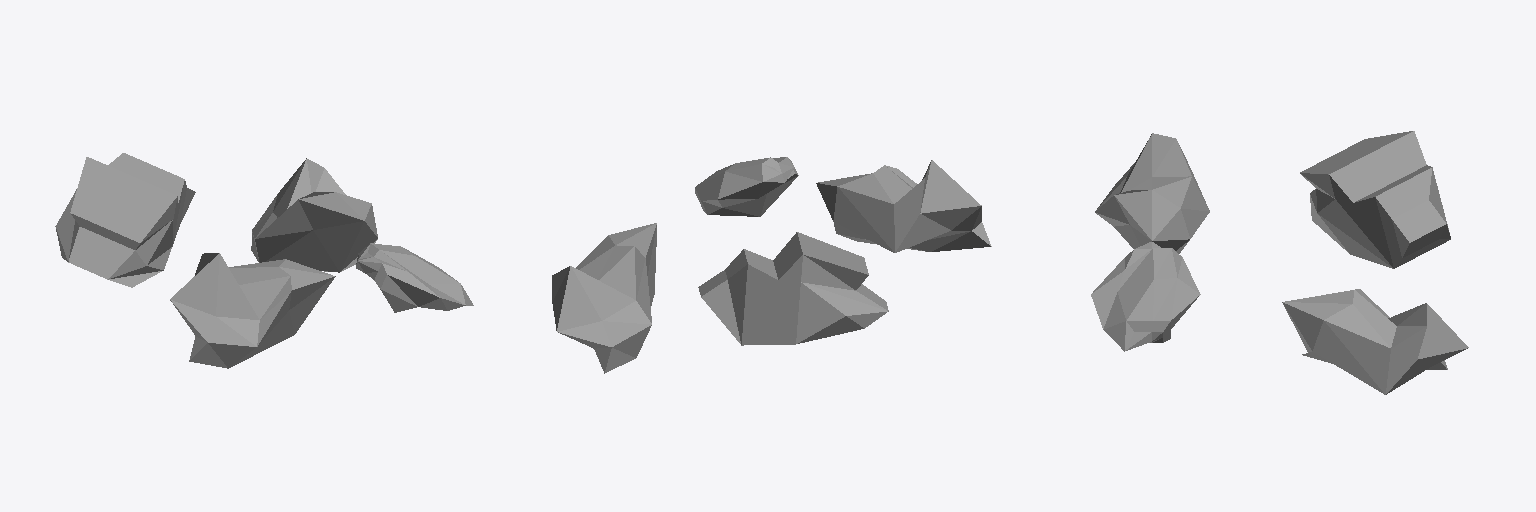
File: mineralshigh.obj
3 renders of one model, left to right at view 1: azimuth 30°, elevation 25°; view 2: azimuth 150°, elevation 25°; view 3: azimuth 270°, elevation 25°, orthographic.
Visible parts, largest first — view 1: Shard01_Cube.004, Shard02_Cube.005, Shard02_Cube.004, Shard03_Cube.001; view 2: Shard01_Cube.004, Shard02_Cube.005, Shard02_Cube.004, Shard03_Cube.001; view 3: Shard01_Cube.004, Shard02_Cube.004, Shard02_Cube.005, Shard03_Cube.001.
Boxes of the visible parts, x1,y1,x2,y2 form: Shard01_Cube.004: [55, 153, 195, 287]; Shard02_Cube.005: [170, 253, 335, 368]; Shard02_Cube.004: [251, 158, 377, 272]; Shard03_Cube.001: [356, 243, 473, 312]; Shard01_Cube.004: [698, 232, 888, 345]; Shard02_Cube.005: [816, 160, 991, 252]; Shard02_Cube.004: [552, 223, 656, 373]; Shard03_Cube.001: [695, 157, 798, 216]; Shard01_Cube.004: [1300, 131, 1450, 268]; Shard02_Cube.004: [1282, 289, 1468, 394]; Shard02_Cube.005: [1095, 133, 1209, 253]; Shard03_Cube.001: [1091, 242, 1200, 351].
Size of the model in its own units: 1.66 by 0.7778 by 1.77.